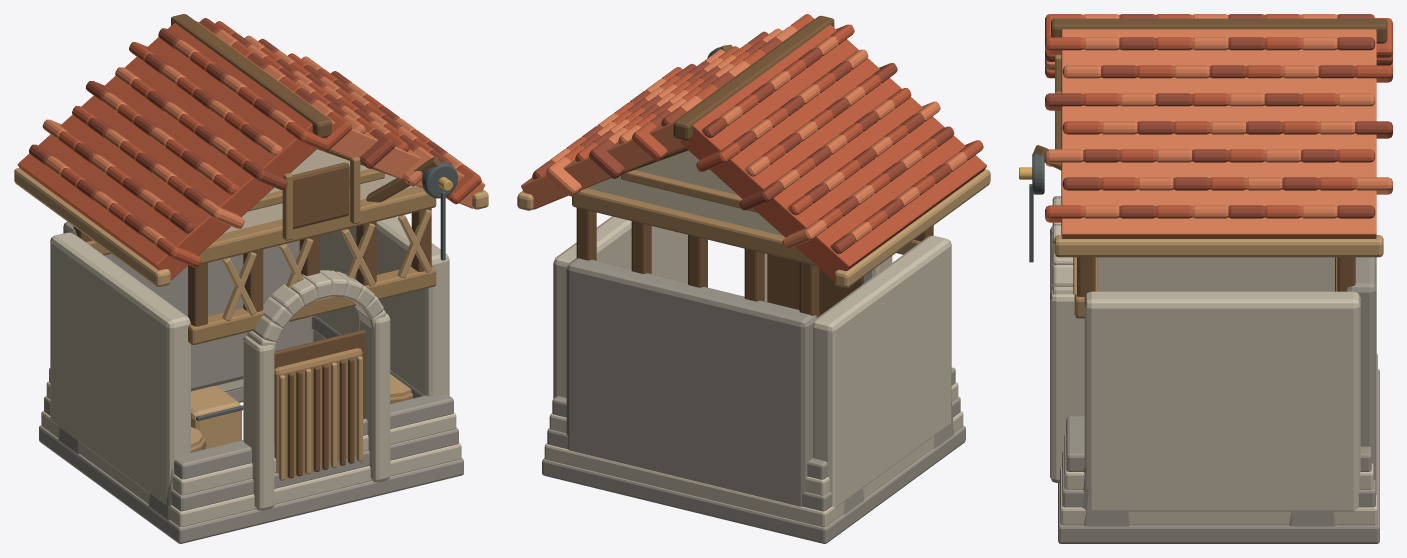
Rendered from warehouse.glb.
3 views of the same model, side by side, from view 1: azimuth 30°, elevation 25°; view 2: azimuth 150°, elevation 25°; view 3: azimuth 270°, elevation 25° (orthographic). The views are drawn at different scales.
Parts seen in each view (by area): view 1: TimberWarehouse_Geometry; view 2: TimberWarehouse_Geometry; view 3: TimberWarehouse_Geometry.
Boxes of the visible parts, x1,y1,x2,y2 form: TimberWarehouse_Geometry: (14, 14, 488, 543); TimberWarehouse_Geometry: (517, 14, 990, 543); TimberWarehouse_Geometry: (1019, 14, 1392, 543).
Bounding box in the file's own units: 2.47 × 2.77 × 2.11.
